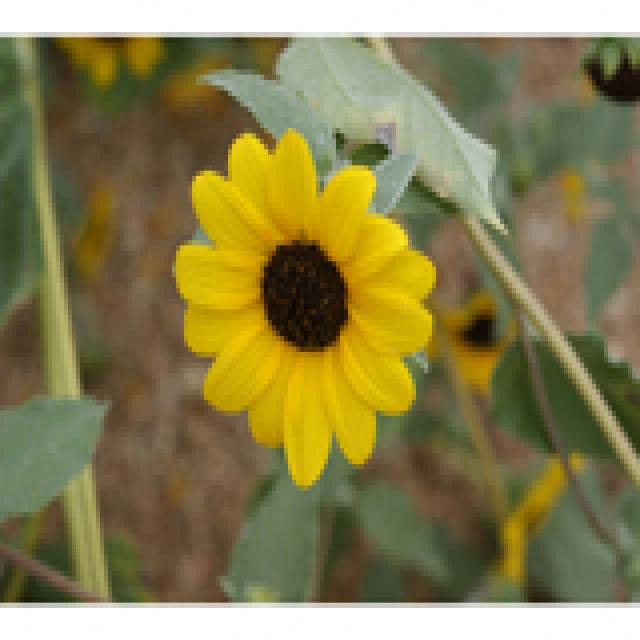sunflower: (170, 110, 442, 507)
